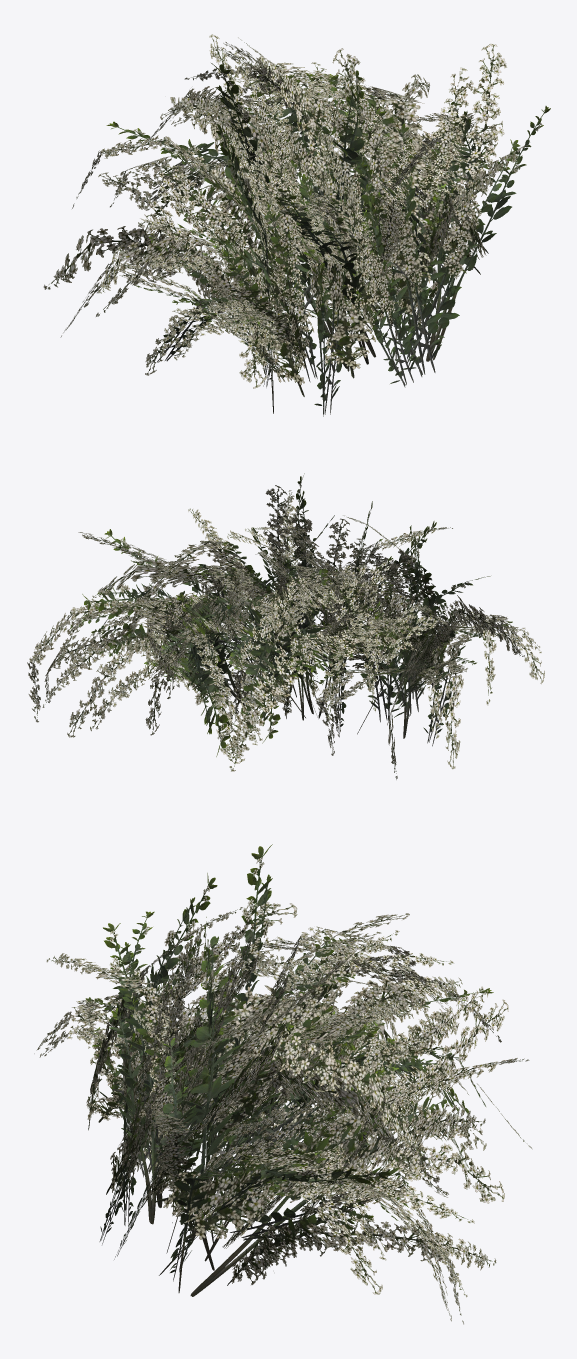
Rendered from bg_anh_foliage_briwreath02_sm_ksy.FBX.
3 renders of one model, top to bottom at view 1: azimuth 30°, elevation 25°; view 2: azimuth 150°, elevation 25°; view 3: azimuth 270°, elevation 25°, orthographic. The views are drawn at different scales.
Parts seen in each view (by area): view 1: bg_anh_foliage_briwreath02_sm_ksy; view 2: bg_anh_foliage_briwreath02_sm_ksy; view 3: bg_anh_foliage_briwreath02_sm_ksy.
Part boxes in pixels (x1,y1,x2,y2): bg_anh_foliage_briwreath02_sm_ksy: [43, 34, 550, 416]; bg_anh_foliage_briwreath02_sm_ksy: [27, 473, 544, 779]; bg_anh_foliage_briwreath02_sm_ksy: [34, 844, 532, 1324].
Bounding box in the file's own units: 363 × 220 × 292.
